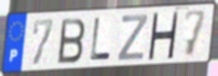7: (183, 9, 207, 60), (31, 18, 55, 68)
B: (56, 17, 87, 66)
H: (146, 11, 180, 60)
L: (89, 17, 112, 63)
Z: (115, 12, 149, 62)
